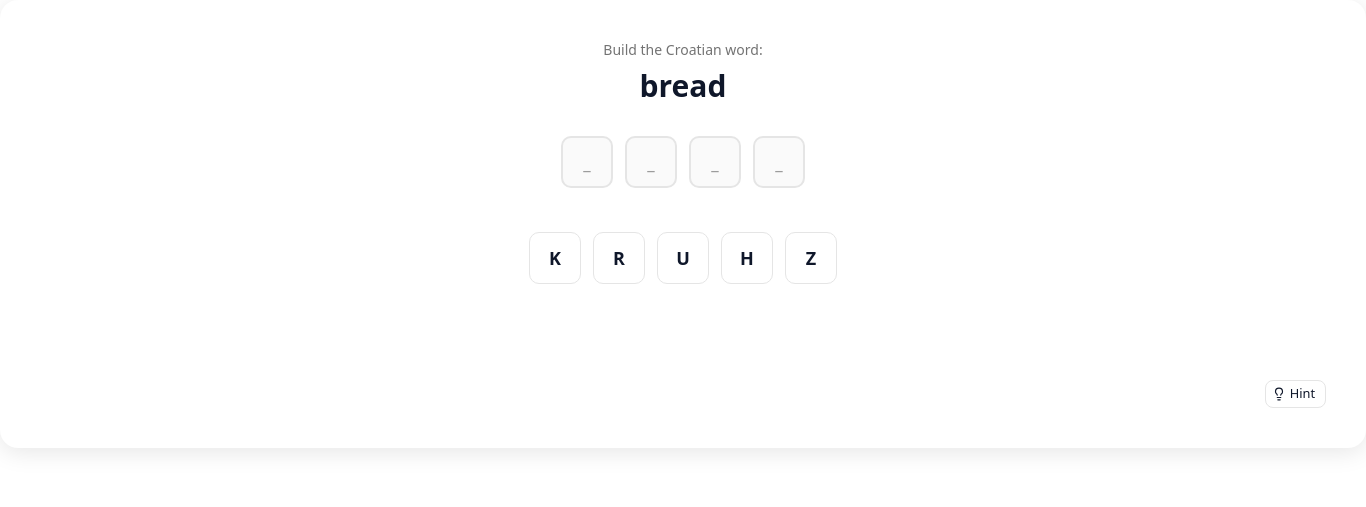
Scenario: LetterPickExercise › completes the word without errors when letters are tapped in order
Click the button "K" at (555, 258), box left=529, top=232, right=581, bottom=284
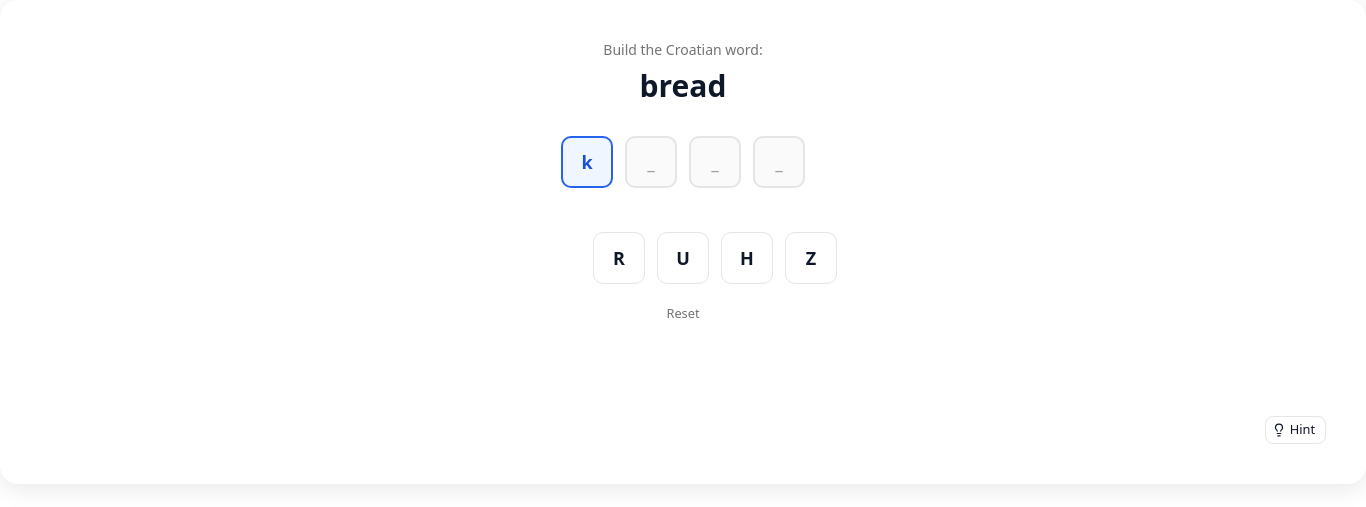
Click the button "R" at (619, 258), box left=593, top=232, right=645, bottom=284
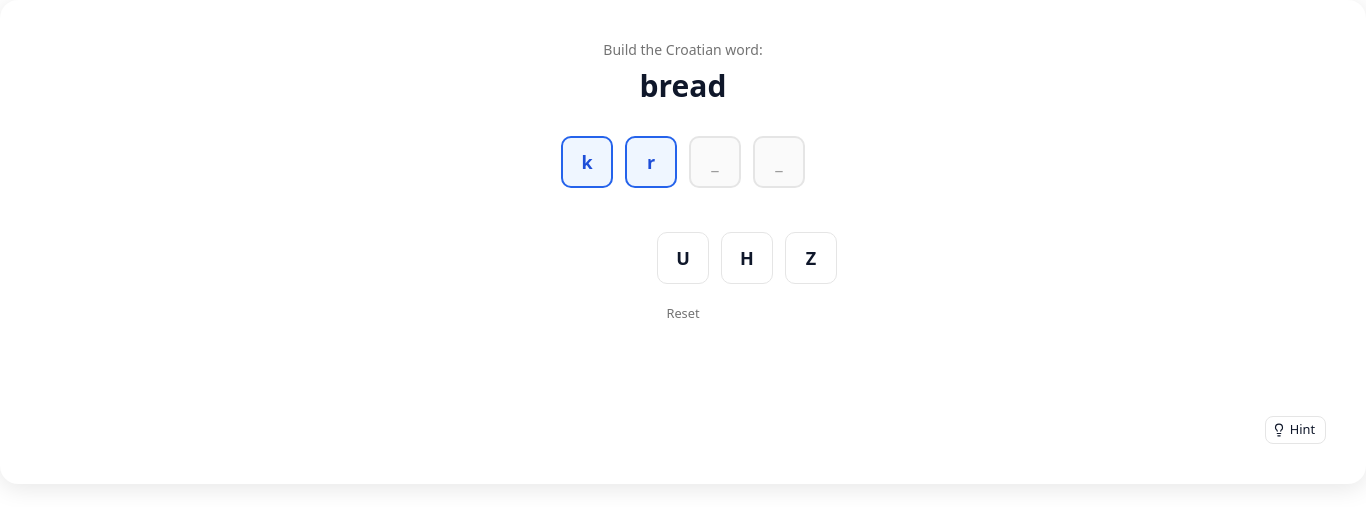
Click the button "U" at (683, 258), box left=657, top=232, right=709, bottom=284
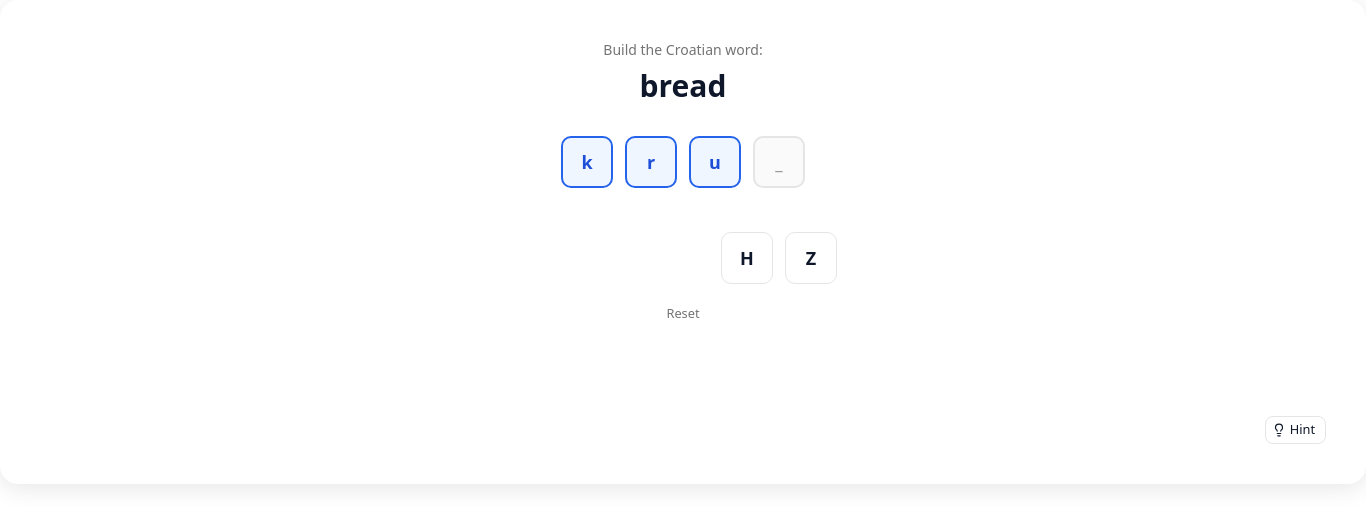
Click the button "H" at (747, 258), box left=721, top=232, right=773, bottom=284
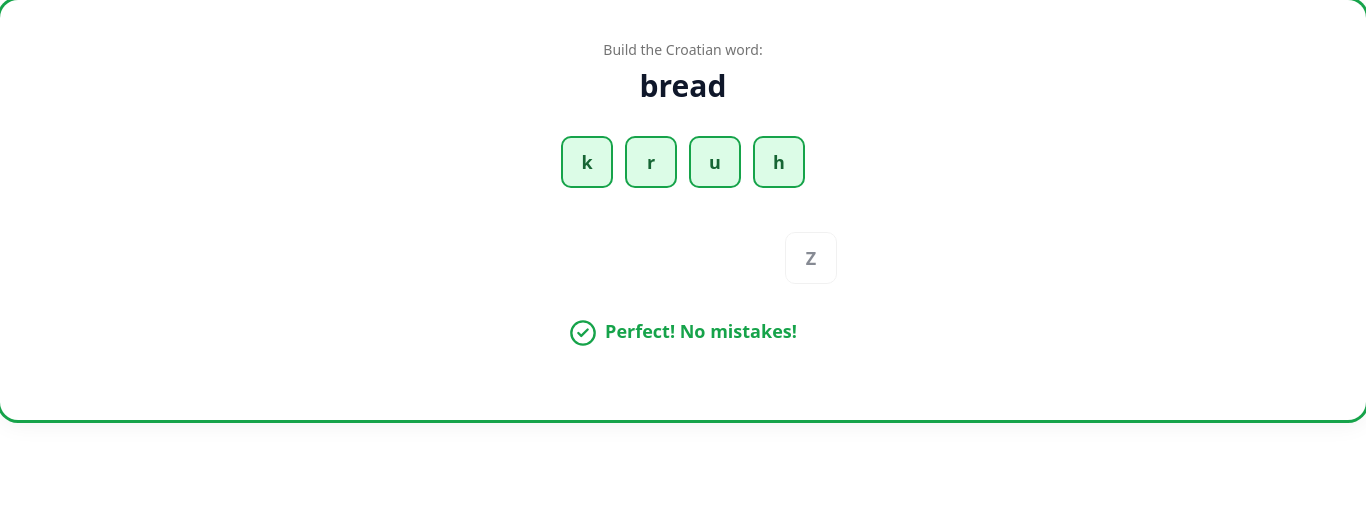
Result: the text "Perfect! No mistakes!" is shown at left=605, top=317, right=797, bottom=345
